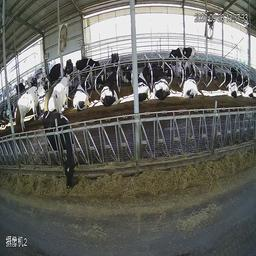cow: (34, 109, 86, 202), (11, 71, 46, 119), (49, 64, 72, 113), (98, 72, 125, 110), (175, 64, 206, 97), (164, 36, 197, 66), (152, 58, 174, 102), (74, 77, 94, 113), (138, 61, 154, 104), (222, 67, 241, 101), (76, 52, 101, 74), (238, 69, 254, 100), (106, 47, 122, 71)
